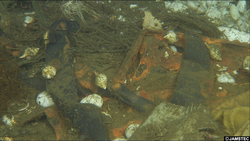fishing net: (1, 1, 142, 60), (124, 12, 227, 57)
